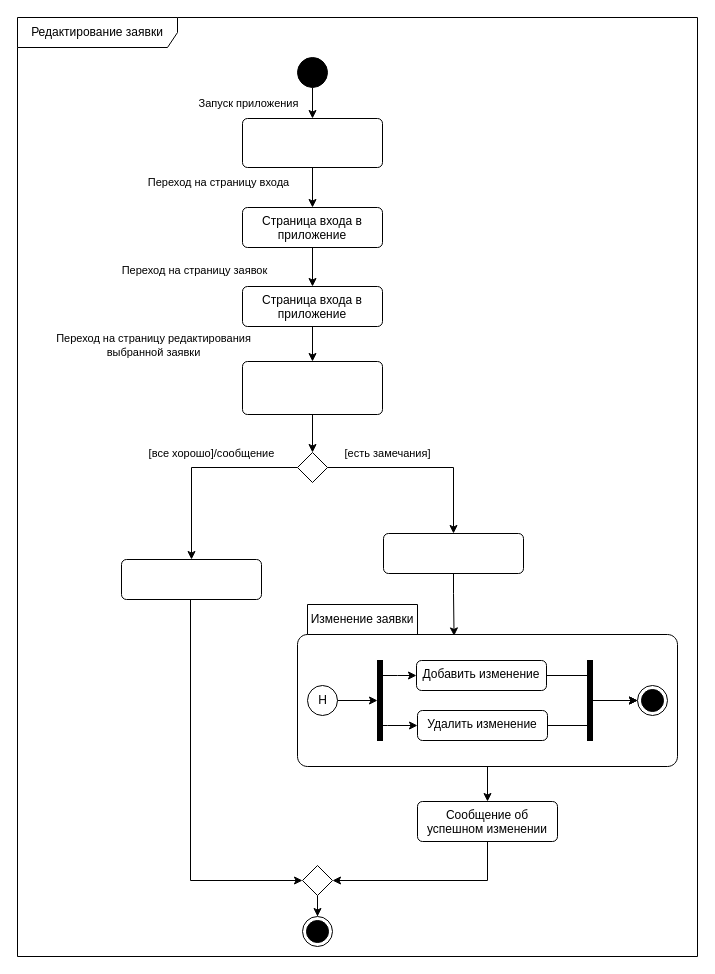
This 715x974 diagram has some shape labels left out. The shapes that lost their labels are listed below. From the top down, each one's centre as x and y in pixels, then its label:
At (x=312, y=143): "Приложение грузоперевозки запущено".
At (x=312, y=387): "Страница редактирования выбранной заявки".
At (x=453, y=553): "Форма для изменения Заявки".
At (x=191, y=579): "Отмена изменений".
